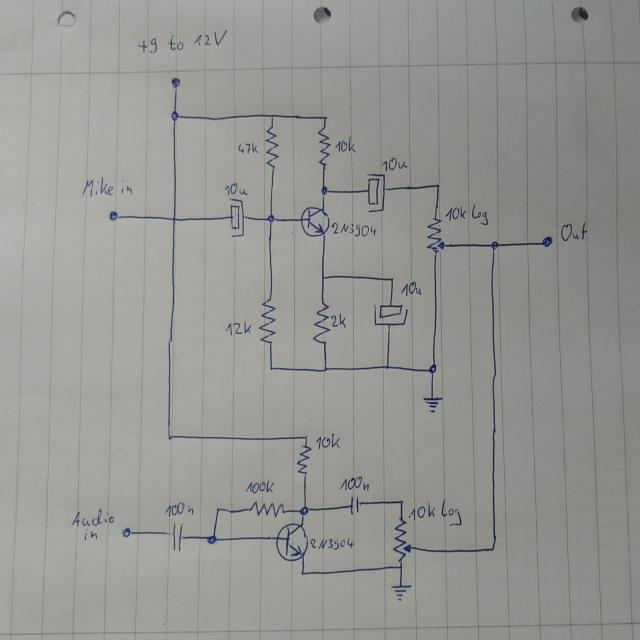capacitor: (364, 172, 387, 214), (372, 302, 409, 328), (227, 198, 246, 238), (168, 521, 186, 552), (348, 495, 362, 515)
crossover: (170, 214, 178, 223)
ground: (389, 581, 413, 602), (421, 395, 444, 414)
junction: (264, 211, 276, 225), (298, 503, 310, 516), (427, 362, 438, 376), (206, 533, 218, 545), (318, 183, 329, 196), (488, 239, 499, 251), (169, 109, 180, 121), (487, 542, 498, 554), (382, 361, 392, 372), (432, 180, 442, 190), (320, 364, 330, 374), (320, 112, 330, 122), (318, 272, 327, 283), (164, 432, 173, 442), (387, 274, 396, 283), (298, 568, 306, 578), (396, 563, 405, 571), (397, 497, 405, 506), (301, 432, 309, 440), (268, 111, 276, 119), (214, 505, 221, 513), (268, 364, 274, 372)
resistor: (258, 296, 276, 348), (311, 300, 331, 346), (425, 214, 447, 255), (393, 518, 413, 562), (264, 125, 280, 169), (248, 499, 286, 516), (316, 128, 332, 168), (296, 443, 312, 476)
terminal: (537, 234, 554, 249), (120, 526, 133, 538), (170, 76, 182, 89), (107, 210, 119, 222)
text: (136, 31, 230, 53), (407, 496, 466, 528), (69, 507, 115, 541), (80, 175, 134, 199), (444, 203, 489, 225), (329, 218, 377, 238), (308, 535, 354, 552), (558, 220, 588, 242), (337, 474, 371, 492), (163, 501, 195, 518), (244, 478, 276, 494), (314, 432, 342, 450), (224, 320, 253, 336), (399, 280, 423, 297), (381, 156, 408, 171), (334, 137, 357, 153), (224, 182, 248, 197), (330, 311, 348, 329), (236, 141, 258, 154)
transistor: (274, 520, 308, 562), (298, 204, 330, 237)
